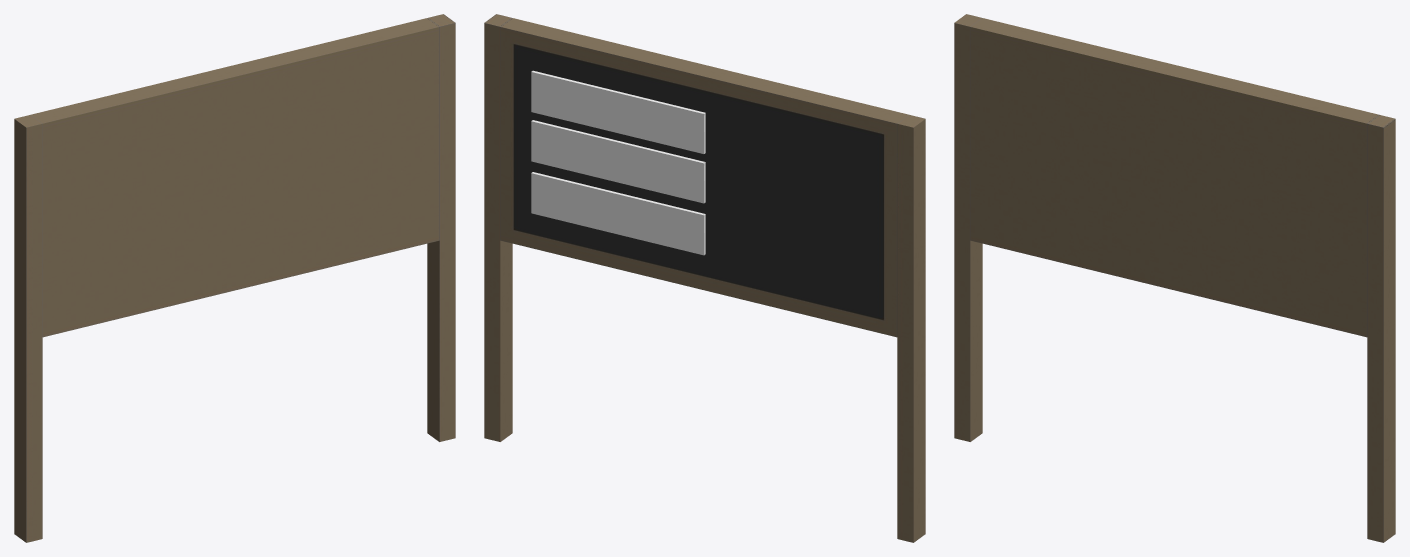
File: InformationBoard.FBX
3 views of the same model, side by side, from view 1: azimuth 30°, elevation 25°; view 2: azimuth 150°, elevation 25°; view 3: azimuth 330°, elevation 25° (orthographic).
Parts seen in each view (by area): view 1: InformationBoard; view 2: InformationBoard, Information1, Information2, Information3; view 3: InformationBoard.
Part boxes in pixels (x1=…): InformationBoard: x1=14, y1=14, x2=455, y2=542; InformationBoard: x1=484, y1=14, x2=925, y2=542; Information1: x1=531, y1=70, x2=705, y2=153; Information2: x1=531, y1=120, x2=705, y2=203; Information3: x1=531, y1=172, x2=705, y2=255; InformationBoard: x1=954, y1=14, x2=1395, y2=542.
Size of the model in its own units: 5349 by 318 by 4943.
2 materials, 2 textured.
